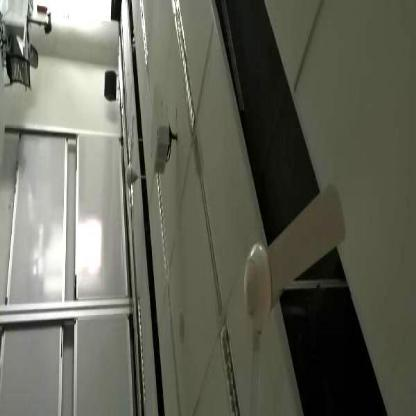light_off: (156, 0, 209, 131), (208, 311, 246, 415), (153, 176, 172, 284), (136, 2, 151, 71)
